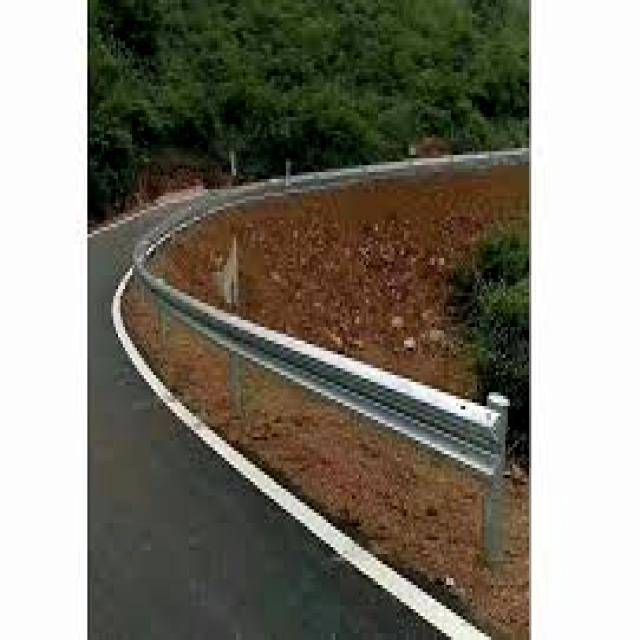Guard rail: (136, 222, 498, 476)
